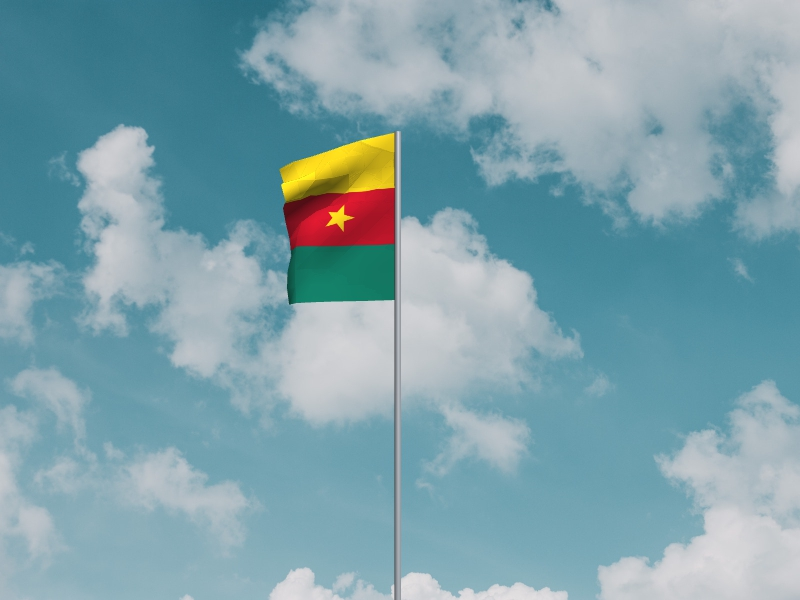cm: (279, 133, 395, 307)
